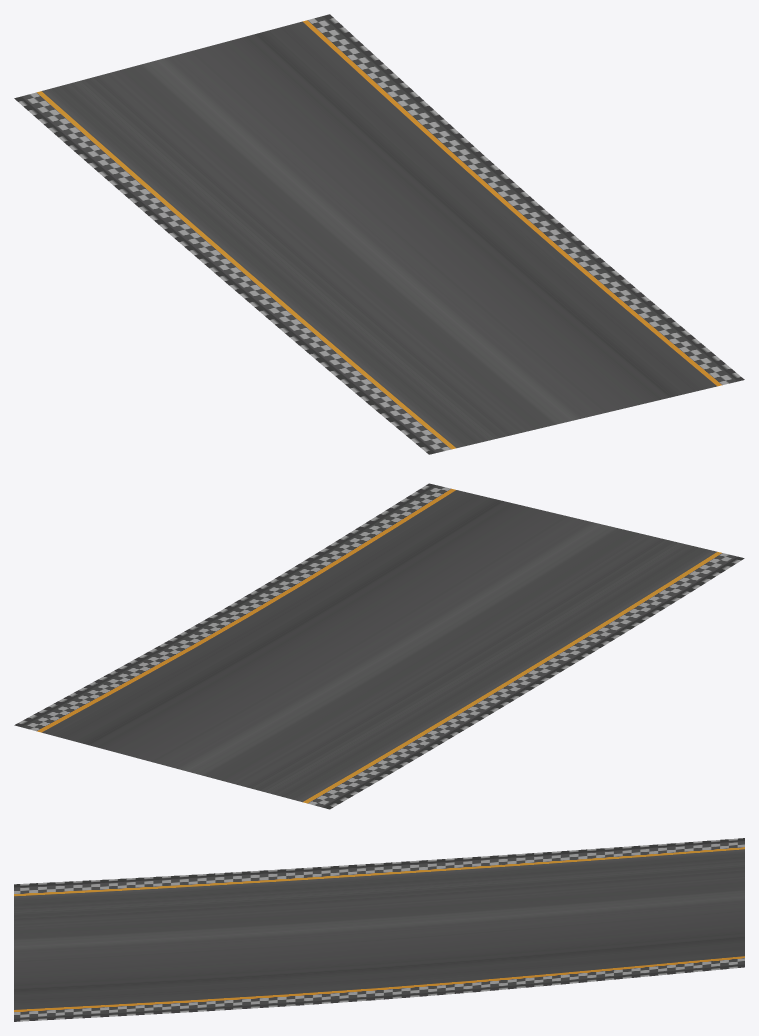
The model's file is ds_mario_circuit_checkpoint.glb.
3 renders of one model, top to bottom at view 1: azimuth 30°, elevation 25°; view 2: azimuth 150°, elevation 25°; view 3: azimuth 270°, elevation 25°, orthographic. The views are drawn at different scales.
Parts seen in each view (by area): view 1: Object_164; view 2: Object_164; view 3: Object_164.
Part boxes in pixels (x1,y1,x2,y2): Object_164: [14, 14, 744, 454]; Object_164: [14, 483, 744, 809]; Object_164: [14, 838, 744, 1021].
Bounding box in the file's own units: 22.58 × 4.23 × 51.39.
1 material, 1 textured.
